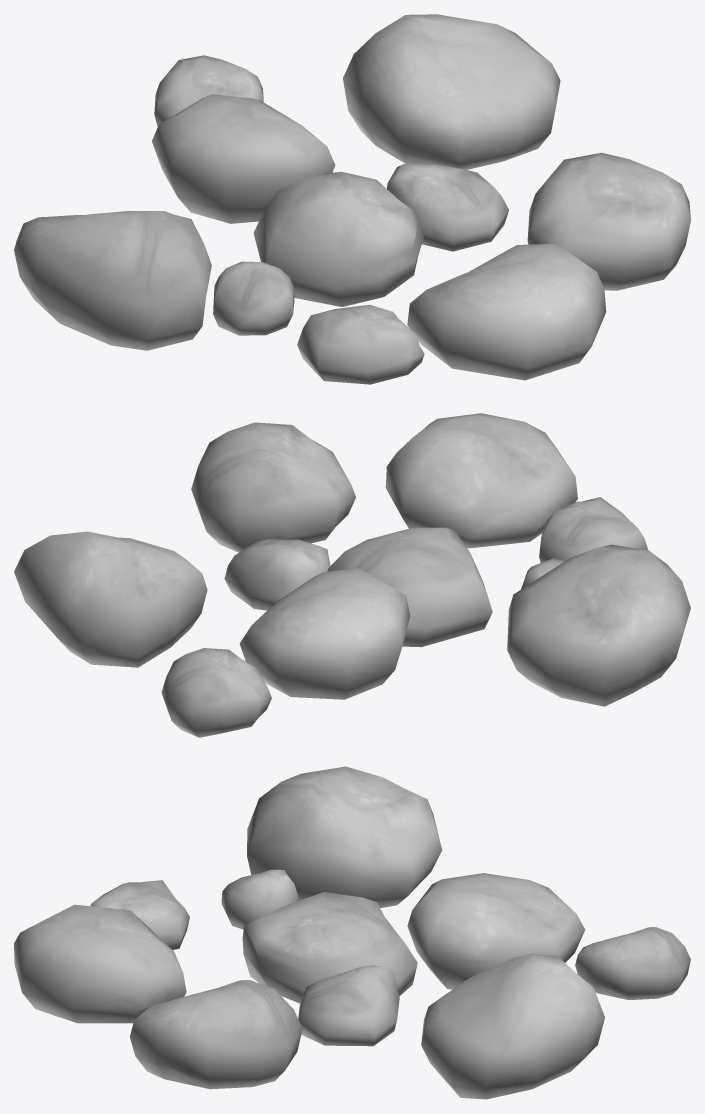
File: SM_ENV_pebbles_ancient_02.fbx
3 renders of one model, top to bottom at view 1: azimuth 30°, elevation 25°; view 2: azimuth 150°, elevation 25°; view 3: azimuth 270°, elevation 25°, orthographic. The views are drawn at different scales.
Visible parts, largest first — view 1: SM_ENV_pebbles_ancient_02_LOD0; view 2: SM_ENV_pebbles_ancient_02_LOD0; view 3: SM_ENV_pebbles_ancient_02_LOD0.
Part boxes in pixels (x1,y1,x2,y2): SM_ENV_pebbles_ancient_02_LOD0: [14, 14, 690, 384]; SM_ENV_pebbles_ancient_02_LOD0: [14, 413, 690, 737]; SM_ENV_pebbles_ancient_02_LOD0: [14, 766, 690, 1099].
Bounding box in the file's own units: 33.05 × 6.21 × 35.13.
